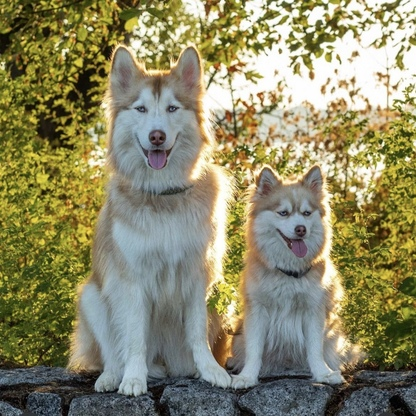husky: (62, 38, 232, 398), (232, 156, 366, 395)
